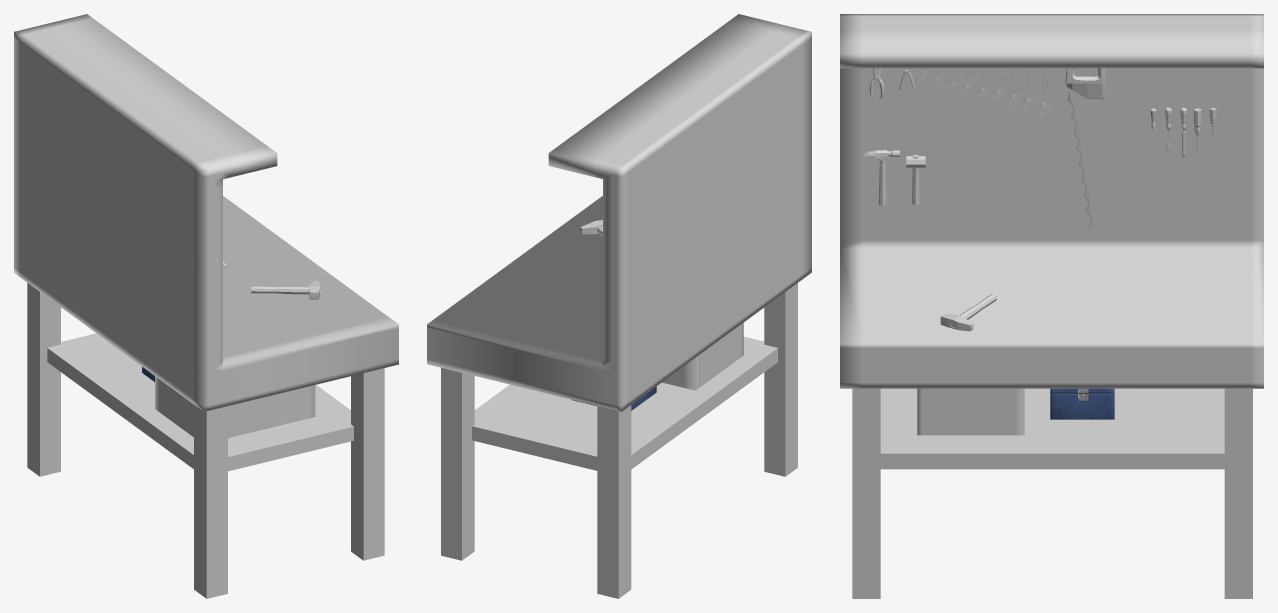
Rendered from Workbench.fbx.
3 renders of one model, left to right at view 1: azimuth 30°, elevation 25°; view 2: azimuth 150°, elevation 25°; view 3: azimuth 270°, elevation 25°, orthographic. The views are drawn at different scales.
Parts seen in each view (by area): view 1: Cube.032, Cube.035, Cube.033, Cube.036, Cylinder.033; view 2: Cube.032, Cube.035, Cube.033, Cube.036; view 3: Cube.032, Cube.033, Cube.035, Cube.036, Cylinder.034, Cube.037, Cylinder.033, Cylinder.032.
Part boxes in pixels (bbox=[...]): Cube.032: bbox=[14, 14, 398, 411]; Cube.035: bbox=[27, 283, 384, 598]; Cube.033: bbox=[47, 333, 353, 471]; Cube.036: bbox=[155, 376, 315, 437]; Cylinder.033: bbox=[251, 280, 320, 299]; Cube.032: bbox=[427, 14, 811, 411]; Cube.035: bbox=[441, 283, 797, 598]; Cube.033: bbox=[472, 336, 777, 470]; Cube.036: bbox=[662, 323, 743, 390]; Cube.032: bbox=[840, 14, 1263, 388]; Cube.033: bbox=[880, 388, 1224, 469]; Cube.035: bbox=[852, 388, 1252, 598]; Cube.036: bbox=[917, 388, 1024, 435]; Cylinder.034: bbox=[1065, 68, 1105, 228]; Cube.037: bbox=[1050, 388, 1114, 419]; Cylinder.033: bbox=[940, 293, 996, 331]; Cylinder.032: bbox=[863, 150, 899, 206].
Size of the model in its own units: 514 by 1095 by 869.
